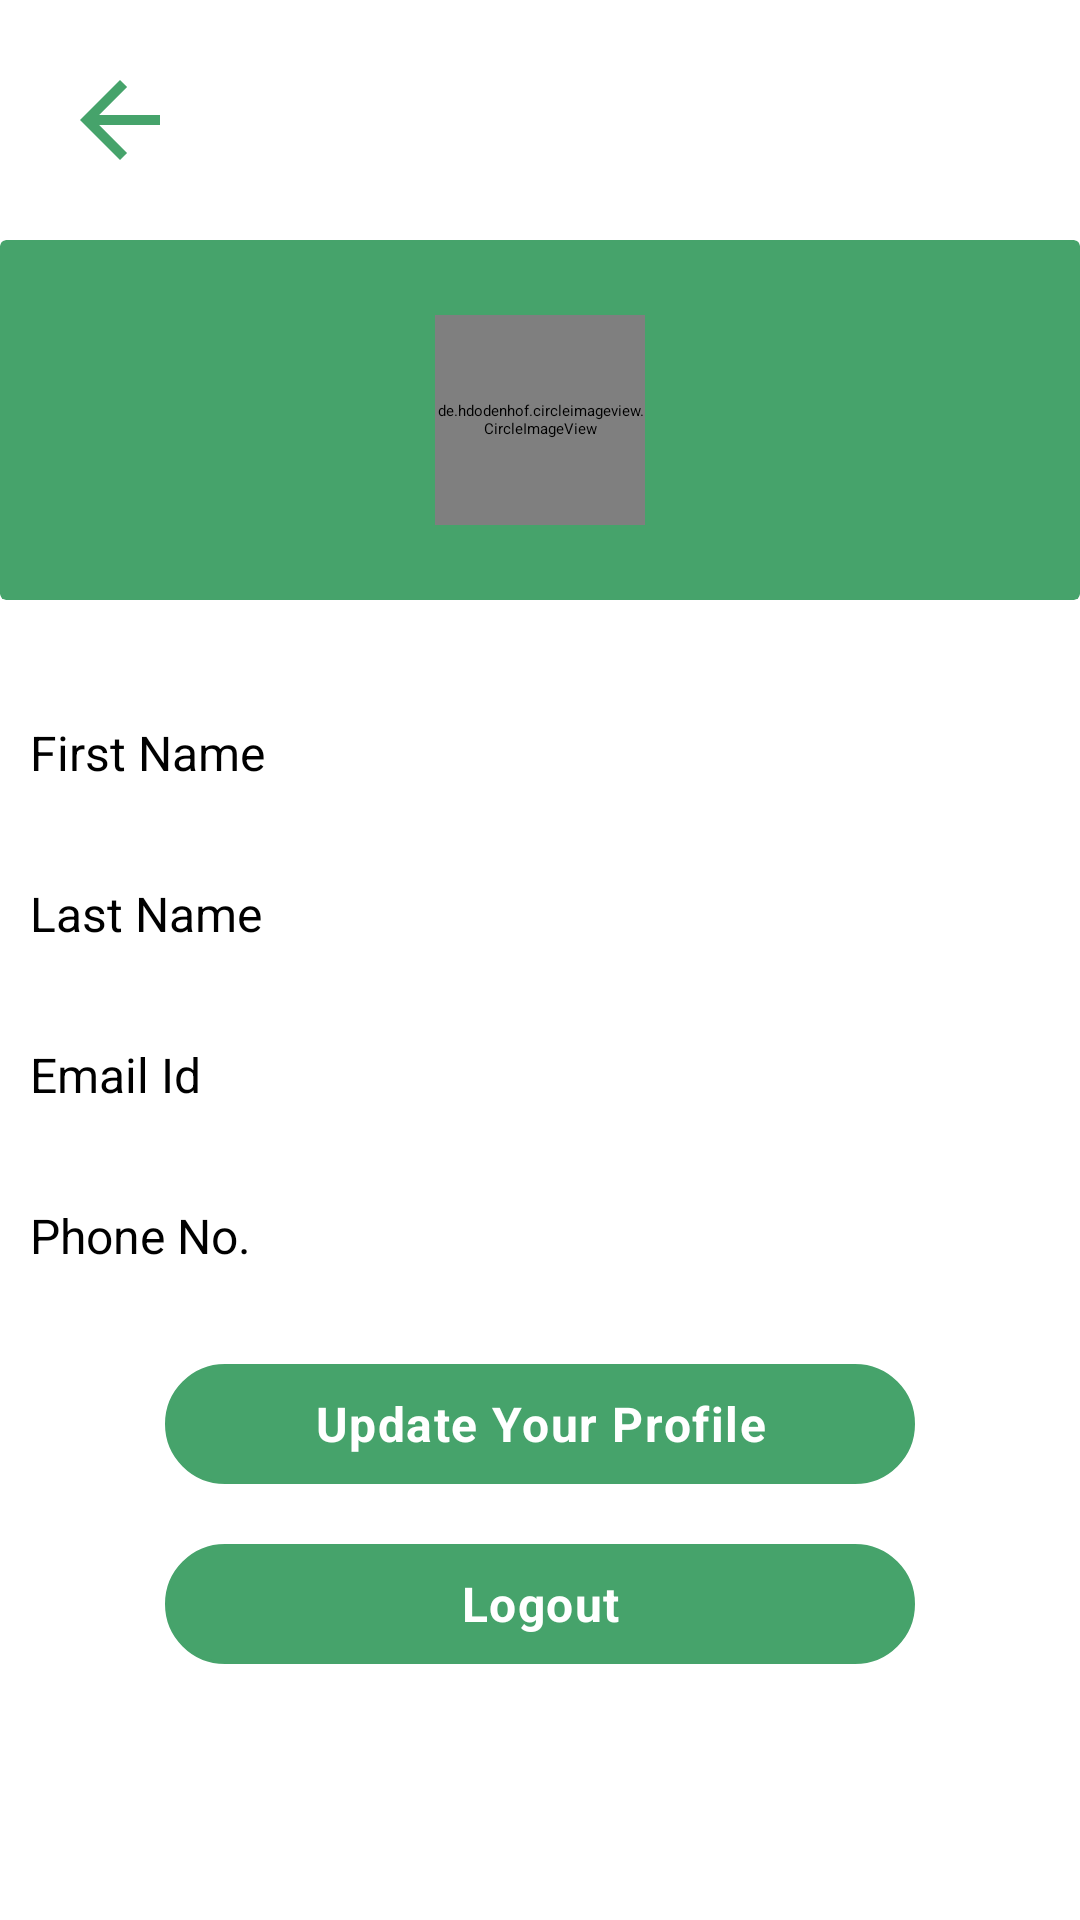

Where to tap for icons on this 1080w x 1920h app screen, as point (x, y):
back: point (120, 120)
